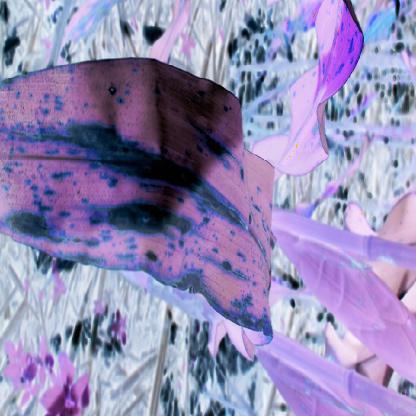corn leaf blight: (2, 59, 279, 333), (258, 1, 364, 186)
